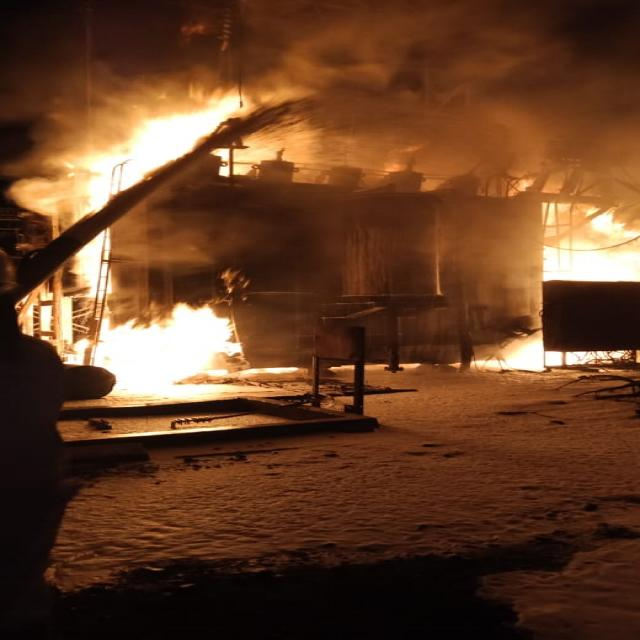Fire: (91, 307, 277, 394), (84, 109, 229, 200), (545, 204, 640, 287), (20, 258, 90, 369), (38, 175, 119, 236), (473, 333, 564, 377), (208, 87, 250, 121)
